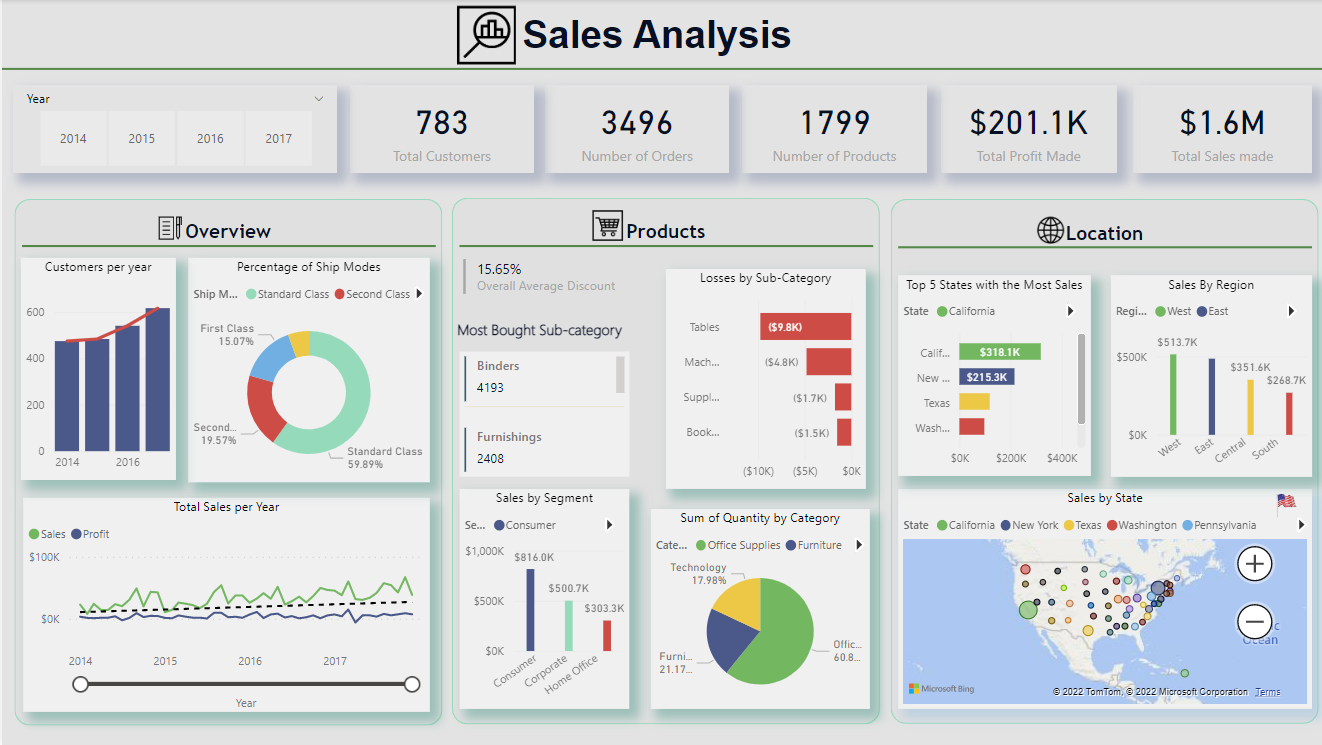

What the dashboard file says about the page in this screenshot:
{"tool":"powerbi","page":{"name":"Overview","canvas":[1280,720],"ordinal":0},"visuals":[{"type":"shape","box":[857.5,193,412.5,506.5],"z":0},{"type":"textbox","box":[18.1,208.6,400.4,36.2],"z":0,"group":"g1"},{"type":"textbox","box":[440.2,208.6,400.4,36.2],"z":0,"group":"g2"},{"type":"textbox","box":[863.5,209.8,400.4,36.2],"z":0,"group":"g3"},{"type":"shape","box":[12.1,193,412.5,507.7],"z":1000},{"type":"shape","box":[19.1,227.8,399.2,20.5],"z":1000,"group":"g1"},{"type":"shape","box":[441.2,227.8,399.2,20.5],"z":1000,"group":"g2"},{"type":"shape","box":[864.5,229,399.2,20.5],"z":1000,"group":"g3"},{"type":"shape","box":[434.2,191.8,412.5,507.7],"z":2000},{"type":"card","fields":{"Values":["Sum(Sales Data.Sales)"]},"box":[1091.5,83.2,172.5,84.4],"z":3000},{"type":"card","fields":{"Values":["Sum(Sales Data.Profit)"]},"box":[905.7,83.2,170.1,84.4],"z":4000},{"type":"lineChart","title":"Total Sales per Year","fields":{"Category":["Sales Data.Order Date.Variation.Date Hierarchy.Year","Sales Data.Order Date.Variation.Date Hierarchy.Month"],"Y":["Sum(Sales Data.Sales)","Sum(Sales Data.Profit)"]},"box":[20.5,481.2,392,206.2],"z":5000},{"type":"textbox","box":[0,8.4,1263.9,55.5],"z":6000},{"type":"shape","box":[0,48.2,1279.6,38.6],"z":7000},{"type":"card","fields":{"Values":["Count(Sales Data.Customer ID)"]},"box":[335.3,83.2,178.5,84.4],"z":8000},{"type":"card","fields":{"Values":["Count(Sales Data.Order ID)"]},"box":[523.4,83.2,178.5,84.4],"z":9000},{"type":"slicer","fields":{"Values":["Sales Data.Order Date.Variation.Date Hierarchy.Year"]},"box":[10.9,83.2,312.4,84.4],"z":10000},{"type":"map","title":"Sales by State","fields":{"Category":["Sales Data.State"],"Series":["Sales Data.State"],"Size":["Sum(Sales Data.Sales)"]},"box":[864.7,472.8,399.2,212.3],"z":11000},{"type":"group","id":"g1","title":"Group 1","box":[18.1,208.6,400.4,39.8],"z":12000},{"type":"group","id":"g2","title":"Group 1","box":[440.2,208.6,400.4,39.8],"z":13000},{"type":"group","id":"g3","title":"Group 1","box":[863.5,209.8,400.4,39.8],"z":14000},{"type":"clusteredColumnChart","title":"Sales By Region","fields":{"Category":["Sales Data.Region"],"Y":["Sum(Sales Data.Sales)"],"Series":["Sales Data.Region"]},"box":[1069.7,266.5,194.2,194.2],"z":15000},{"type":"image","box":[1215,472.5,48.8,32.5],"z":16000},{"type":"pieChart","fields":{"Y":["Sum(Sales Data.Quantity)"],"Category":["Sales Data.Category"]},"box":[625.9,492.1,211.1,193],"z":17000},{"type":"clusteredColumnChart","title":"Sales by Segment","fields":{"Category":["Sales Data.Segment"],"Y":["Sum(Sales Data.Sales)"],"Series":["Sales Data.Segment"]},"box":[441.4,472.8,164,212.3],"z":18000},{"type":"clusteredBarChart","title":"Losses by Sub-Category","fields":{"Category":["Sales Data.Sub-Category"],"Y":["Sum(Sales Data.Profit)"]},"box":[640.4,260.5,193,212.3],"z":19000},{"type":"barChart","title":"Top 5 States with the Most Sales","fields":{"Y":["Sum(Sales Data.Sales)"],"Category":["Sales Data.State"],"Series":["Sales Data.State"]},"box":[865.1,266.2,185.5,194],"z":20000},{"type":"card","fields":{"Values":["Count(Sales Data.Product Name)"]},"box":[714,83.2,178.5,84.4],"z":20001},{"type":"lineStackedColumnComboChart","title":"Customers per year","fields":{"Y":["Count(Sales Data.Customer ID)"],"Category":["Sales Data.Order Date.Variation.Date Hierarchy.Year"],"Y2":["Count(Sales Data.Customer ID)"]},"box":[18.1,249.6,149.5,214.7],"z":20002},{"type":"donutChart","title":"Percentage of Ship Modes","fields":{"Y":["CountNonNull(Sales Data.Ship Mode)"],"Category":["Sales Data.Ship Mode"]},"box":[179.7,249.6,232.8,217.1],"z":20003},{"type":"multiRowCard","fields":{"Values":["Avg(Sales Data.Discount)"]},"box":[440.4,246.4,184.1,43.9],"z":20004},{"type":"multiRowCard","fields":{"Values":["Sales Data.Sub-Category","Sum(Sales Data.Quantity)"]},"box":[441.4,340.1,164,120.6],"z":20005},{"type":"textbox","box":[433.8,303.8,178.8,36.2],"z":20006},{"type":"image","box":[563.2,199,42.2,39.8],"z":20007},{"type":"image","box":[434.2,0,66.3,68.7],"z":20008},{"type":"image","box":[144.7,205,35,32.6],"z":20009},{"type":"image","box":[991.2,205,41.2,36.2],"z":20010}]}

Visuals, with their boxes in screenshot pixels (x1, y1, x2, y2), scaled from the page's 1280x720 canvas onto the 1322x745 screenshot:
shape: [x1=886, y1=200, x2=1312, y2=724]
textbox: [x1=19, y1=216, x2=432, y2=253]
textbox: [x1=455, y1=216, x2=868, y2=253]
textbox: [x1=892, y1=217, x2=1305, y2=255]
shape: [x1=12, y1=200, x2=439, y2=725]
shape: [x1=20, y1=236, x2=432, y2=257]
shape: [x1=456, y1=236, x2=868, y2=257]
shape: [x1=893, y1=237, x2=1305, y2=258]
shape: [x1=448, y1=198, x2=874, y2=724]
card - Sum(Sales Data.Sales): [x1=1127, y1=86, x2=1305, y2=173]
card - Sum(Sales Data.Profit): [x1=935, y1=86, x2=1111, y2=173]
"Total Sales per Year" lineChart: [x1=21, y1=498, x2=426, y2=711]
textbox: [x1=0, y1=9, x2=1305, y2=66]
shape: [x1=0, y1=50, x2=1321, y2=90]
card - Count(Sales Data.Customer ID): [x1=346, y1=86, x2=531, y2=173]
card - Count(Sales Data.Order ID): [x1=541, y1=86, x2=725, y2=173]
slicer - Sales Data.Order Date.Variation.Date Hierarchy.Year: [x1=11, y1=86, x2=334, y2=173]
"Sales by State" map: [x1=893, y1=489, x2=1305, y2=709]
"Group 1" group: [x1=19, y1=216, x2=432, y2=257]
"Group 1" group: [x1=455, y1=216, x2=868, y2=257]
"Group 1" group: [x1=892, y1=217, x2=1305, y2=258]
"Sales By Region" clusteredColumnChart: [x1=1105, y1=276, x2=1305, y2=477]
image: [x1=1255, y1=489, x2=1305, y2=523]
pieChart - Sum(Sales Data.Quantity) x Sales Data.Category: [x1=646, y1=509, x2=864, y2=709]
"Sales by Segment" clusteredColumnChart: [x1=456, y1=489, x2=625, y2=709]
"Losses by Sub-Category" clusteredBarChart: [x1=661, y1=270, x2=861, y2=489]
"Top 5 States with the Most Sales" barChart: [x1=893, y1=275, x2=1085, y2=476]
card - Count(Sales Data.Product Name): [x1=737, y1=86, x2=922, y2=173]
"Customers per year" lineStackedColumnComboChart: [x1=19, y1=258, x2=173, y2=480]
"Percentage of Ship Modes" donutChart: [x1=186, y1=258, x2=426, y2=483]
multiRowCard - Avg(Sales Data.Discount): [x1=455, y1=255, x2=645, y2=300]
multiRowCard - Sales Data.Sub-Category x Sum(Sales Data.Quantity): [x1=456, y1=352, x2=625, y2=477]
textbox: [x1=448, y1=314, x2=633, y2=352]
image: [x1=582, y1=206, x2=625, y2=247]
image: [x1=448, y1=0, x2=517, y2=71]
image: [x1=149, y1=212, x2=186, y2=246]
image: [x1=1024, y1=212, x2=1066, y2=250]
